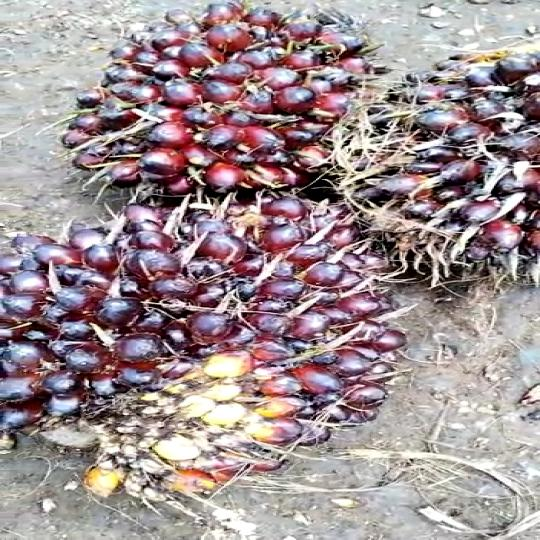kurang masak: (11, 207, 394, 502), (72, 0, 354, 215), (344, 34, 540, 318)
